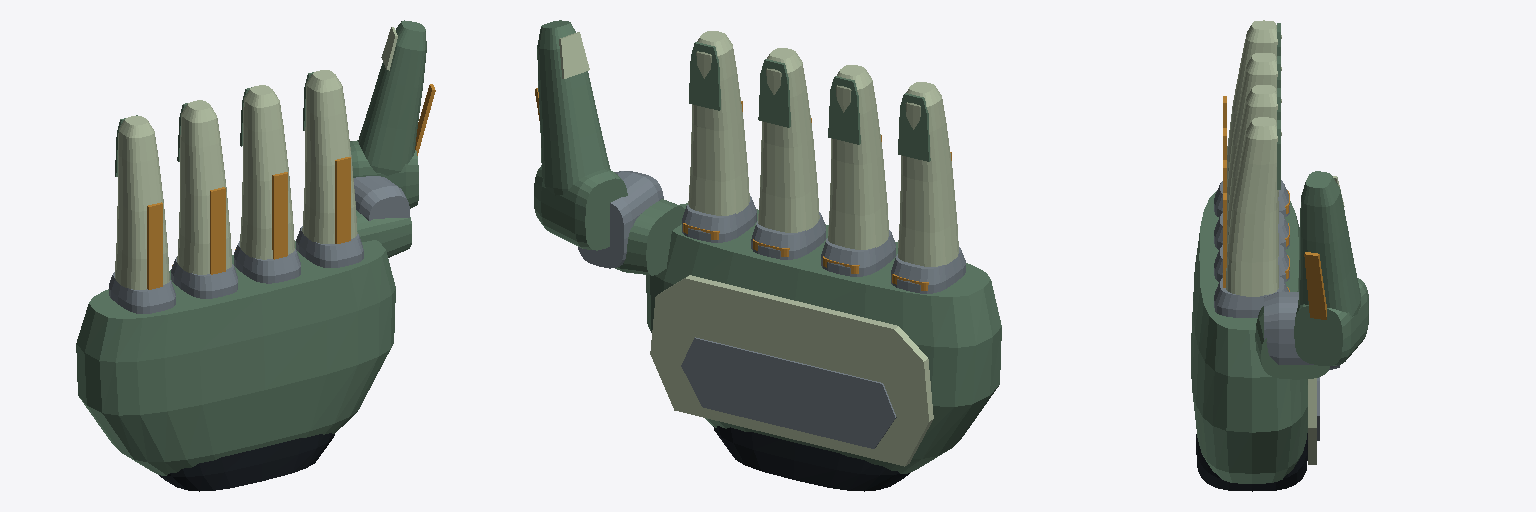
URDF robot description (TALON-6-right-hand):
<robot name="TALON-6-right-hand">
  <link name="palm">
    <visual>
      <material name="olive">
        <color rgba="0.4 0.51 0.43 1.0" />
      </material>
      <geometry>
        <mesh filename="meshes/palm_shell.obj" />
      </geometry>
    </visual>
    <visual>
      <material name="sage">
        <color rgba="0.72 0.77 0.66 1.0" />
      </material>
      <geometry>
        <mesh filename="meshes/palm_face.obj" />
      </geometry>
    </visual>
    <visual>
      <material name="graphite">
        <color rgba="0.13 0.15 0.17 1.0" />
      </material>
      <geometry>
        <mesh filename="meshes/wrist_collar.obj" />
      </geometry>
    </visual>
    <visual>
      <material name="alloy">
        <color rgba="0.5 0.54 0.57 1.0" />
      </material>
      <geometry>
        <mesh filename="meshes/palm_inlay.obj" />
      </geometry>
    </visual>
    <visual>
      <origin xyz="0.05 0.015 0.052" rpy="0 1.5707963267948966 0" />
      <material name="olive">
        <color rgba="0.4 0.51 0.43 1.0" />
      </material>
      <geometry>
        <mesh filename="meshes/thumb_bridge.obj" />
      </geometry>
    </visual>
    <visual>
      <origin xyz="0.039 0 0.049" rpy="0 0 0" />
      <material name="alloy">
        <color rgba="0.5 0.54 0.57 1.0" />
      </material>
      <geometry>
        <mesh filename="meshes/motor_cover.obj" />
      </geometry>
    </visual>
    <visual>
      <origin xyz="0.039 0 0.049" rpy="0 0 0" />
      <material name="gold">
        <color rgba="0.78 0.56 0.24 1.0" />
      </material>
      <geometry>
        <mesh filename="meshes/motor_cap.obj" />
      </geometry>
    </visual>
    <visual>
      <origin xyz="0.013 0 0.049" rpy="0 0 0" />
      <material name="alloy">
        <color rgba="0.5 0.54 0.57 1.0" />
      </material>
      <geometry>
        <mesh filename="meshes/motor_cover.obj" />
      </geometry>
    </visual>
    <visual>
      <origin xyz="0.013 0 0.049" rpy="0 0 0" />
      <material name="gold">
        <color rgba="0.78 0.56 0.24 1.0" />
      </material>
      <geometry>
        <mesh filename="meshes/motor_cap.obj" />
      </geometry>
    </visual>
    <visual>
      <origin xyz="-0.013 0 0.049" rpy="0 0 0" />
      <material name="alloy">
        <color rgba="0.5 0.54 0.57 1.0" />
      </material>
      <geometry>
        <mesh filename="meshes/motor_cover.obj" />
      </geometry>
    </visual>
    <visual>
      <origin xyz="-0.013 0 0.049" rpy="0 0 0" />
      <material name="gold">
        <color rgba="0.78 0.56 0.24 1.0" />
      </material>
      <geometry>
        <mesh filename="meshes/motor_cap.obj" />
      </geometry>
    </visual>
    <visual>
      <origin xyz="-0.039 0 0.049" rpy="0 0 0" />
      <material name="alloy">
        <color rgba="0.5 0.54 0.57 1.0" />
      </material>
      <geometry>
        <mesh filename="meshes/motor_cover.obj" />
      </geometry>
    </visual>
    <visual>
      <origin xyz="-0.039 0 0.049" rpy="0 0 0" />
      <material name="gold">
        <color rgba="0.78 0.56 0.24 1.0" />
      </material>
      <geometry>
        <mesh filename="meshes/motor_cap.obj" />
      </geometry>
    </visual>
    <visual>
      <origin xyz="0.066 0.017 0.057" rpy="1.5707963267948966 0 0" />
      <material name="alloy">
        <color rgba="0.5 0.54 0.57 1.0" />
      </material>
      <geometry>
        <mesh filename="meshes/motor_cover.obj" />
      </geometry>
    </visual>
  </link>
  <link name="index_digit">
    <visual>
      <material name="sage">
        <color rgba="0.72 0.77 0.66 1.0" />
      </material>
      <geometry>
        <mesh filename="meshes/finger.obj" />
      </geometry>
    </visual>
    <visual>
      <material name="olive">
        <color rgba="0.4 0.51 0.43 1.0" />
      </material>
      <geometry>
        <mesh filename="meshes/finger_pad.obj" />
      </geometry>
    </visual>
    <visual>
      <material name="gold">
        <color rgba="0.78 0.56 0.24 1.0" />
      </material>
      <geometry>
        <mesh filename="meshes/finger_spine.obj" />
      </geometry>
    </visual>
  </link>
  <joint name="index_flex" type="revolute">
    <parent link="palm" />
    <child link="index_digit" />
    <origin xyz="0.039 0 0.049" rpy="0 0 0.0" />
    <axis xyz="-1 0 0" />
    <limit lower="0" upper="1.4835298641951802" effort="1.5" velocity="2.0" />
  </joint>
  <link name="middle_digit">
    <visual>
      <material name="sage">
        <color rgba="0.72 0.77 0.66 1.0" />
      </material>
      <geometry>
        <mesh filename="meshes/finger.obj" />
      </geometry>
    </visual>
    <visual>
      <material name="olive">
        <color rgba="0.4 0.51 0.43 1.0" />
      </material>
      <geometry>
        <mesh filename="meshes/finger_pad.obj" />
      </geometry>
    </visual>
    <visual>
      <material name="gold">
        <color rgba="0.78 0.56 0.24 1.0" />
      </material>
      <geometry>
        <mesh filename="meshes/finger_spine.obj" />
      </geometry>
    </visual>
  </link>
  <joint name="middle_flex" type="revolute">
    <parent link="palm" />
    <child link="middle_digit" />
    <origin xyz="0.013 0 0.049" rpy="0 0 0.0" />
    <axis xyz="-1 0 0" />
    <limit lower="0" upper="1.4835298641951802" effort="1.5" velocity="2.0" />
  </joint>
  <link name="ring_digit">
    <visual>
      <material name="sage">
        <color rgba="0.72 0.77 0.66 1.0" />
      </material>
      <geometry>
        <mesh filename="meshes/finger.obj" />
      </geometry>
    </visual>
    <visual>
      <material name="olive">
        <color rgba="0.4 0.51 0.43 1.0" />
      </material>
      <geometry>
        <mesh filename="meshes/finger_pad.obj" />
      </geometry>
    </visual>
    <visual>
      <material name="gold">
        <color rgba="0.78 0.56 0.24 1.0" />
      </material>
      <geometry>
        <mesh filename="meshes/finger_spine.obj" />
      </geometry>
    </visual>
  </link>
  <joint name="ring_flex" type="revolute">
    <parent link="palm" />
    <child link="ring_digit" />
    <origin xyz="-0.013 0 0.049" rpy="0 0 0.0" />
    <axis xyz="-1 0 0" />
    <limit lower="0" upper="1.4835298641951802" effort="1.5" velocity="2.0" />
  </joint>
  <link name="little_digit">
    <visual>
      <material name="sage">
        <color rgba="0.72 0.77 0.66 1.0" />
      </material>
      <geometry>
        <mesh filename="meshes/finger.obj" />
      </geometry>
    </visual>
    <visual>
      <material name="olive">
        <color rgba="0.4 0.51 0.43 1.0" />
      </material>
      <geometry>
        <mesh filename="meshes/finger_pad.obj" />
      </geometry>
    </visual>
    <visual>
      <material name="gold">
        <color rgba="0.78 0.56 0.24 1.0" />
      </material>
      <geometry>
        <mesh filename="meshes/finger_spine.obj" />
      </geometry>
    </visual>
  </link>
  <joint name="little_flex" type="revolute">
    <parent link="palm" />
    <child link="little_digit" />
    <origin xyz="-0.039 0 0.049" rpy="0 0 0.0" />
    <axis xyz="-1 0 0" />
    <limit lower="0" upper="1.4835298641951802" effort="1.5" velocity="2.0" />
  </joint>
  <link name="thumb_hub">
    <visual>
      <origin xyz="0 0 0" rpy="1.5707963267948966 0 0" />
      <material name="olive">
        <color rgba="0.4 0.51 0.43 1.0" />
      </material>
      <geometry>
        <mesh filename="meshes/motor_cover.obj" />
      </geometry>
    </visual>
    <visual>
      <origin xyz="0 0 0" rpy="1.5707963267948966 0 0" />
      <material name="gold">
        <color rgba="0.78 0.56 0.24 1.0" />
      </material>
      <geometry>
        <mesh filename="meshes/motor_cap.obj" />
      </geometry>
    </visual>
  </link>
  <joint name="thumb_opposition" type="revolute">
    <parent link="palm" />
    <child link="thumb_hub" />
    <origin xyz="0.075 0.027 0.065" rpy="0 0 1.2217304763960306" />
    <axis xyz="0 0 1" />
    <limit lower="-0.3490658503988659" upper="0.6108652381980153" effort="1.5" velocity="2.0" />
  </joint>
  <link name="thumb_digit">
    <visual>
      <material name="olive">
        <color rgba="0.4 0.51 0.43 1.0" />
      </material>
      <geometry>
        <mesh filename="meshes/thumb.obj" />
      </geometry>
    </visual>
    <visual>
      <material name="sage">
        <color rgba="0.72 0.77 0.66 1.0" />
      </material>
      <geometry>
        <mesh filename="meshes/thumb_pad.obj" />
      </geometry>
    </visual>
    <visual>
      <material name="gold">
        <color rgba="0.78 0.56 0.24 1.0" />
      </material>
      <geometry>
        <mesh filename="meshes/thumb_spine.obj" />
      </geometry>
    </visual>
  </link>
  <joint name="thumb_flex" type="revolute">
    <parent link="thumb_hub" />
    <child link="thumb_digit" />
    <origin xyz="0 0 0" rpy="0.2617993877991494 0 0" />
    <axis xyz="-1 0 0" />
    <limit lower="0" upper="1.4835298641951802" effort="1.5" velocity="2.0" />
  </joint>
</robot>

--- Render facts (derived) ---
The picture shows the robot from 3 angles, left to right: view 1: azimuth 30°, elevation 25°; view 2: azimuth 150°, elevation 25°; view 3: azimuth 270°, elevation 25°; orthographic projection.
Robot: TALON-6-right-hand — 7 links, 6 joints (6 revolute); root link palm; default pose: all joints at 0.
Links seen in each view (by area): view 1: palm, ring_digit, index_digit, little_digit, middle_digit, thumb_digit, thumb_hub; view 2: palm, ring_digit, index_digit, little_digit, middle_digit, thumb_digit, thumb_hub; view 3: palm, index_digit, thumb_digit, thumb_hub, middle_digit, ring_digit, little_digit.
Link boxes in pixels (<box>): palm: <box>76,176,411,491</box>; ring_digit: <box>177,100,231,274</box>; index_digit: <box>302,70,357,243</box>; little_digit: <box>115,115,169,289</box>; middle_digit: <box>240,85,294,259</box>; thumb_digit: <box>358,20,435,175</box>; thumb_hub: <box>350,140,418,208</box>; palm: <box>578,171,1001,491</box>; ring_digit: <box>828,65,888,249</box>; index_digit: <box>688,31,749,215</box>; little_digit: <box>898,82,958,266</box>; middle_digit: <box>758,48,819,232</box>; thumb_digit: <box>535,20,610,195</box>; thumb_hub: <box>534,165,627,250</box>; palm: <box>1191,180,1339,491</box>; index_digit: <box>1223,117,1281,296</box>; thumb_digit: <box>1298,171,1360,319</box>; thumb_hub: <box>1294,278,1368,365</box>; middle_digit: <box>1223,85,1281,256</box>; ring_digit: <box>1223,53,1281,223</box>; little_digit: <box>1223,20,1281,178</box>.
Size in the robot's own frame: 0.1579 by 0.0609 by 0.1447 metres.
Meshes: 13 distinct files referenced, 31 mesh visuals loaded (13 OBJ).
